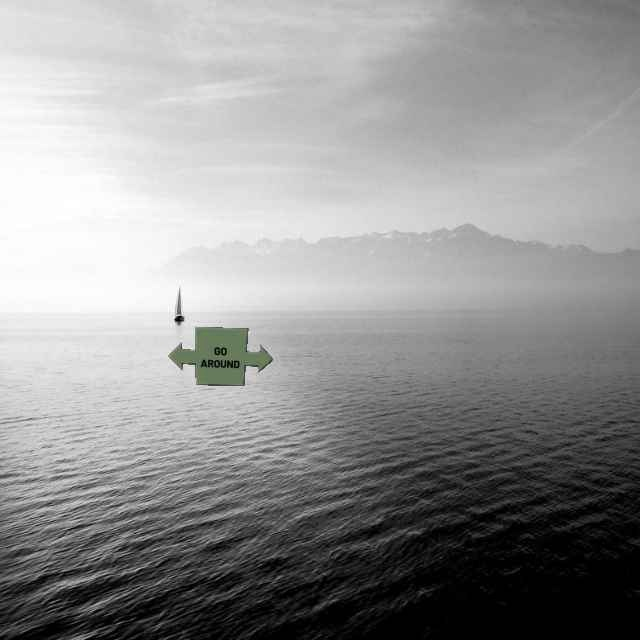GO_AROUND: (167, 326, 273, 386)
